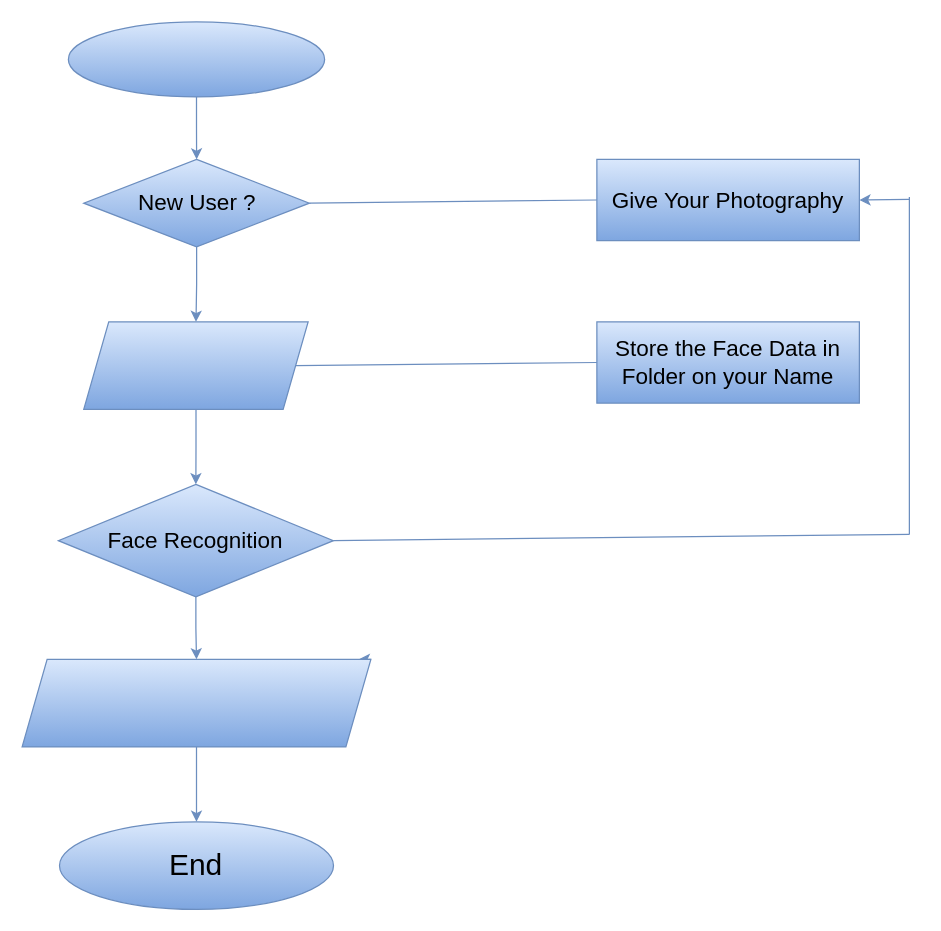
The diagram is 941 pixels wide and 931 high, and some of its shapes have lost their labels. Here are the shapes that lost their labels. From the top down, the box of each, then its label:
(67, 21, 325, 97): Start
(82, 321, 308, 409): Recognize The Face
(21, 658, 371, 747): Stored In CSV File With Registration Number And Date,Time &Entery
